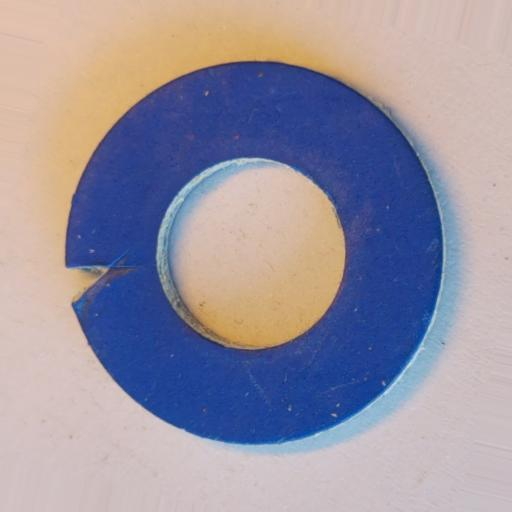defect: (64, 252, 145, 305)
